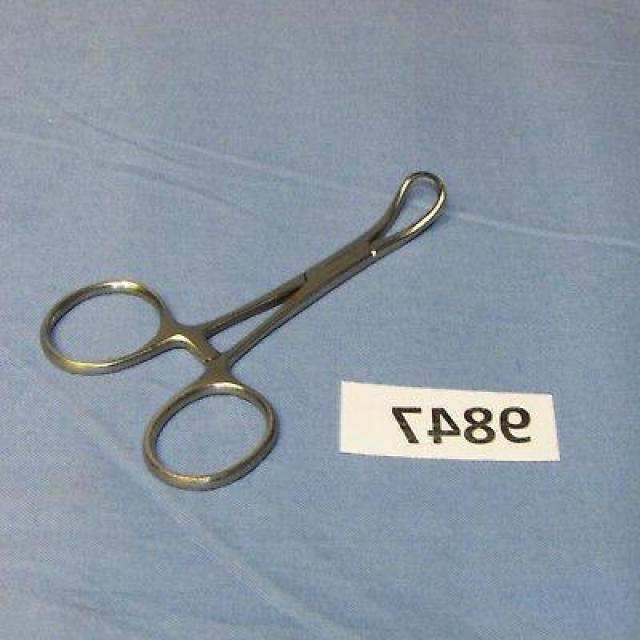Towel_clip: (35, 163, 453, 498)
